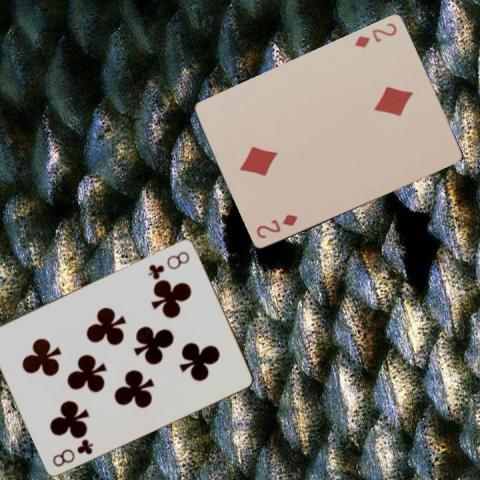2d: (351, 20, 398, 50), (253, 211, 299, 241)
8c: (145, 247, 191, 280), (49, 435, 95, 468)
